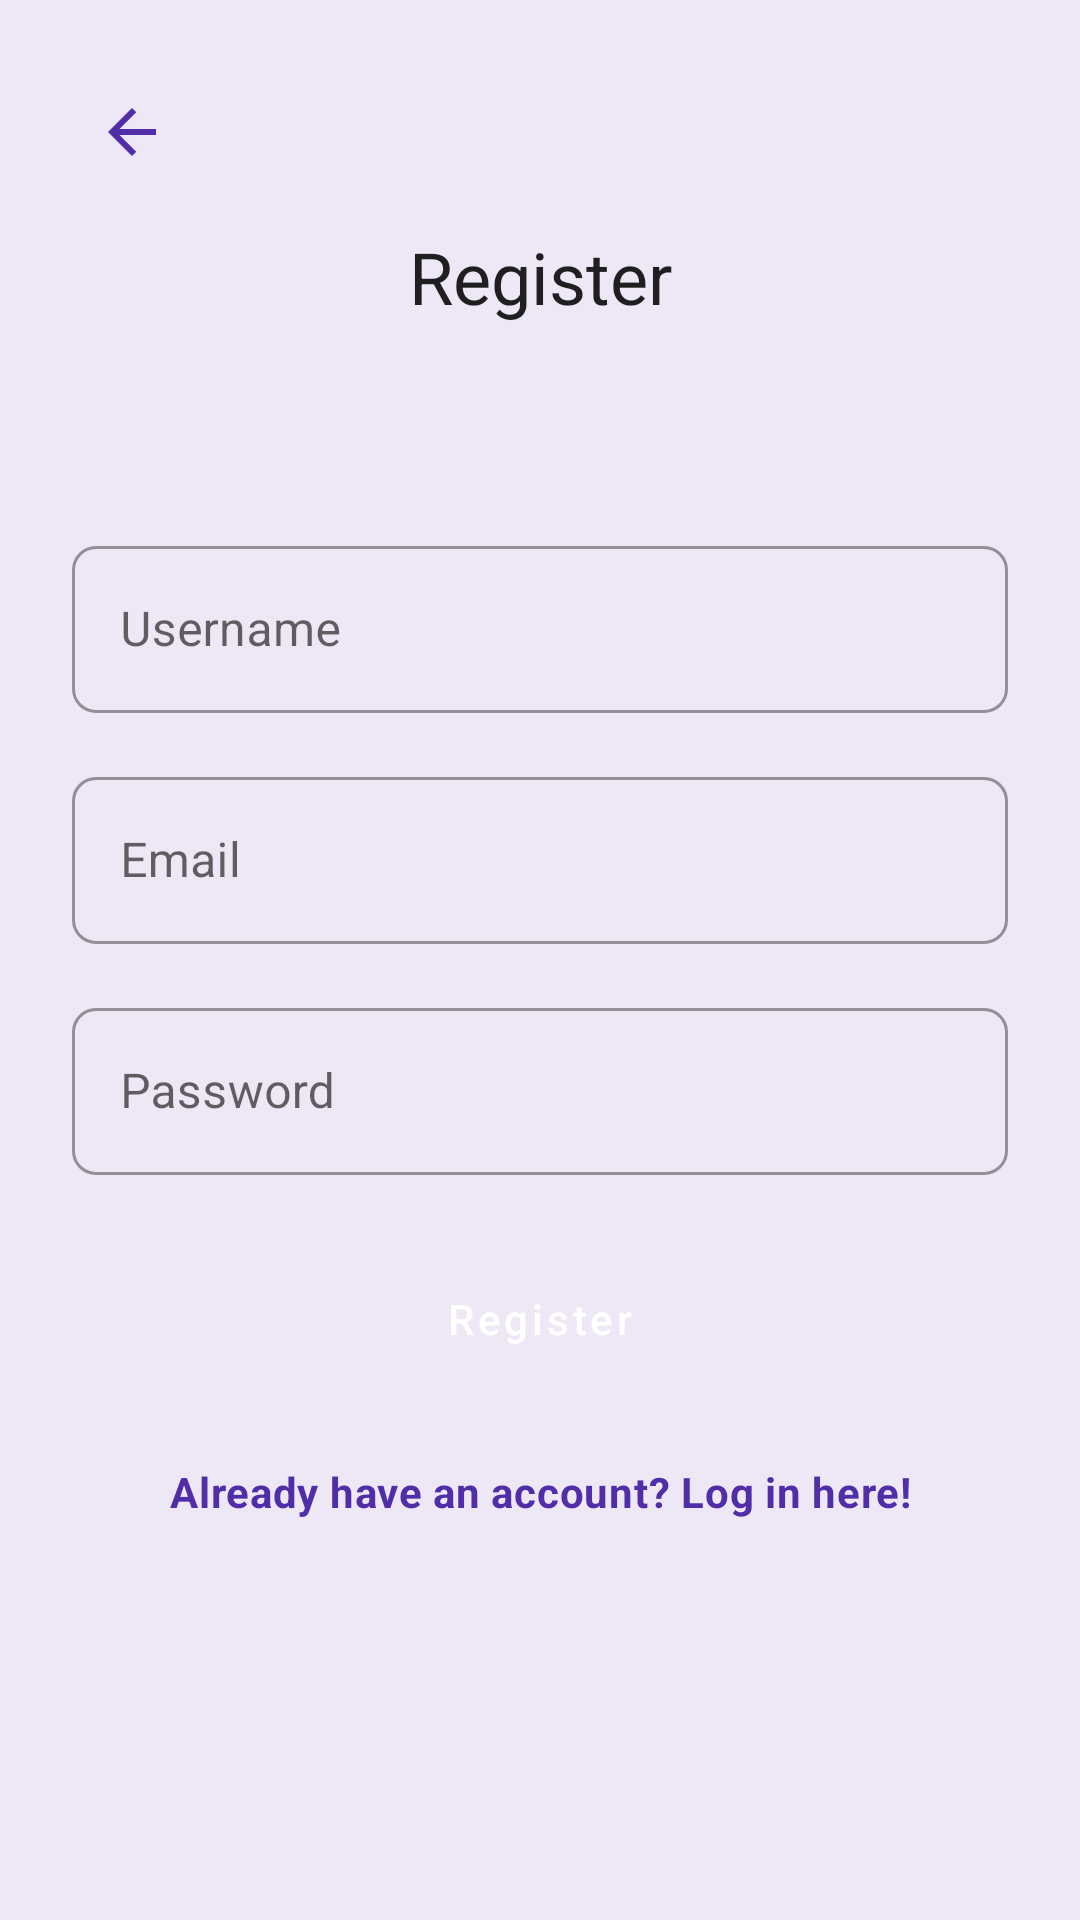

Icon bounding boxes for this 1080px x 1920px phone screenshot, format (x1, y1, x2, y2):
Back: (108, 108, 156, 156)
